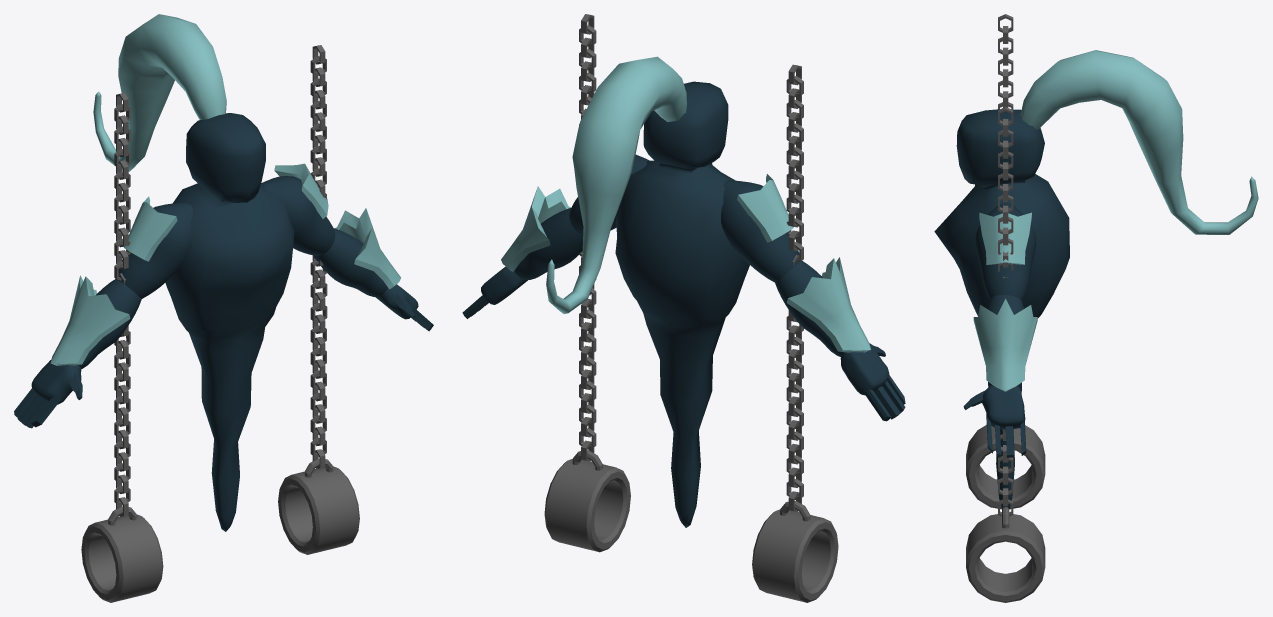
File: PhantomFragmentDraft.fbx
3 renders of one model, left to right at view 1: azimuth 30°, elevation 25°; view 2: azimuth 150°, elevation 25°; view 3: azimuth 270°, elevation 25°, orthographic. The views are drawn at different scales.
Visible parts, largest first — view 1: phantomFragmentDraft_Whole; view 2: phantomFragmentDraft_Whole; view 3: phantomFragmentDraft_Whole.
Boxes of the visible parts, x1=… form: phantomFragmentDraft_Whole: x1=14, y1=14, x2=433, y2=602; phantomFragmentDraft_Whole: x1=462, y1=14, x2=905, y2=602; phantomFragmentDraft_Whole: x1=934, y1=14, x2=1258, y2=602.
Bounding box in the file's own units: 20.43 × 24.62 × 14.5.
